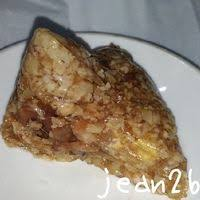zongzi: (2, 28, 186, 199)
